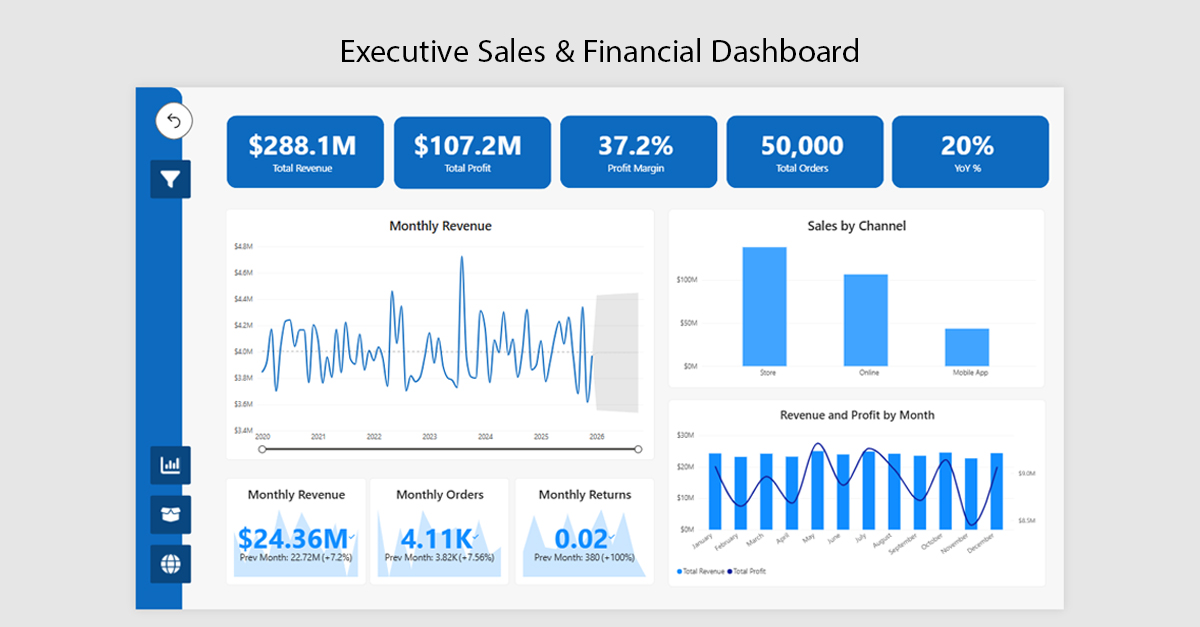

The page's visual inventory and layout, read from the dashboard file:
{"tool":"powerbi","page":{"name":"Exec Dashboard","canvas":[1920,1080],"ordinal":0},"visuals":[{"type":"group","id":"g1","title":"Group 6","box":[0,0,117.4,1080.4],"z":0,"group":"g12"},{"type":"shape","box":[0,0,96.5,1080.4],"z":0,"group":"g1"},{"type":"group","id":"g2","title":"kpi","box":[187,43.5,1704.3,171.7],"z":0},{"type":"group","id":"g3","title":"Group 1","box":[187,43.5,327.6,172.6],"z":0,"group":"g2"},{"type":"group","id":"g4","title":"Group 2","box":[187,43.5,327.6,172.6],"z":0,"group":"g3"},{"type":"group","id":"g5","title":"Group 5","box":[529.9,43.5,332.2,171.7],"z":0,"group":"g8"},{"type":"group","id":"g6","title":"Group 3","box":[877.2,43.5,327.6,171.7],"z":0,"group":"g9"},{"type":"group","id":"g7","title":"Group 4","box":[1220.1,43.5,327.6,171.7],"z":0,"group":"g10"},{"type":"shape","box":[188.8,57.9,325.8,150.7],"z":0,"group":"g4"},{"type":"shape","box":[879,57.9,325.8,150.7],"z":0,"group":"g6"},{"type":"shape","box":[1221.9,57.9,325.8,150.7],"z":0,"group":"g7"},{"type":"shape","box":[1564.7,57.9,325.8,150.7],"z":0,"group":"g11"},{"type":"shape","box":[536.3,58.8,325.8,150.7],"z":0,"group":"g5"},{"type":"actionButton","box":[39.1,30.4,78.3,78.3],"z":1000,"group":"g1"},{"type":"card","fields":{"Values":["Measure Table.Total Revenue"]},"box":[187,43.5,317.6,171.7],"z":1000,"group":"g4"},{"type":"group","id":"g8","title":"Group 2","box":[529.9,43.5,332.2,171.7],"z":1000,"group":"g2"},{"type":"card","fields":{"Values":["Measure Table.Total Profit"]},"box":[529.9,43.5,317.6,171.7],"z":1000,"group":"g5"},{"type":"card","title":"Profit Margin","fields":{"Values":["Measure Table.Profit Margin %"]},"box":[877.2,43.5,317.6,171.7],"z":1000,"group":"g6"},{"type":"card","title":"Profit Margin","fields":{"Values":["Measure Table.Total Orders"]},"box":[1220.1,43.5,317.6,171.7],"z":1000,"group":"g7"},{"type":"card","title":"Profit Margin","fields":{"Values":["Measure Table.YoY %"]},"box":[1562.9,43.5,318.6,172.6],"z":1000,"group":"g11"},{"type":"actionButton","box":[30.4,150,83.9,80],"z":1000,"group":"g12"},{"type":"clusteredColumnChart","title":"Sales by Channel","fields":{"Category":["Sales.Channel"],"Y":["Measure Table.Total Revenue"]},"box":[1102.2,252.2,778.3,369.6],"z":1000},{"type":"group","id":"g9","title":"Group 2","box":[877.2,43.5,327.6,172.6],"z":2000,"group":"g2"},{"type":"lineChart","title":"Monthly  Revenue","fields":{"Y":["Measure Table.Total Revenue"],"Category":["Calendar.Start of Month.Variation.Date Hierarchy.Year","Calendar.Start of Month.Variation.Date Hierarchy.Quarter","Calendar.Start of Month.Variation.Date Hierarchy.Month","Calendar.Start of Month.Variation.Date Hierarchy.Day"]},"box":[187,252.2,887,519.6],"z":2000},{"type":"actionButton","box":[29.4,742.8,83.9,80],"z":2000,"group":"g1"},{"type":"group","id":"g10","title":"Group 2","box":[1220.1,43.5,327.6,172.6],"z":3000,"group":"g2"},{"type":"kpi","title":"Monthly Revenue","fields":{"Indicator":["Measure Table.Total Revenue"],"Goal":["Measure Table.Previous Month Revenue"],"TrendLine":["Calendar.Date.Variation.Date Hierarchy.Month"]},"box":[187,808.7,291.3,221.7],"z":3000},{"type":"actionButton","box":[30.4,945.7,84.8,80.4],"z":3000,"group":"g1"},{"type":"group","id":"g11","title":"Group 2","box":[1562.9,43.5,327.6,172.6],"z":4000,"group":"g2"},{"type":"kpi","title":"Monthly Orders","fields":{"Indicator":["Measure Table.Total Orders"],"Goal":["Measure Table.Previous Month Orders"],"TrendLine":["Calendar.Start of Week.Variation.Date Hierarchy.Month"]},"box":[484.8,808.7,289.1,221.7],"z":4000},{"type":"actionButton","box":[30.4,844,84.8,80.4],"z":4000,"group":"g1"},{"type":"kpi","title":"Monthly Returns","fields":{"TrendLine":["Calendar.Date.Variation.Date Hierarchy.Month"],"Indicator":["Measure Table.Return Rate"],"Goal":["Measure Table.Previous Month Returns"]},"box":[784.8,808.7,289.1,221.7],"z":5000},{"type":"lineClusteredColumnComboChart","title":"Revenue and Profit by Month","fields":{"Category":["Calendar.Start of Month.Variation.Date Hierarchy.Month","Calendar.Start of Month.Variation.Date Hierarchy.Day"],"Y":["Measure Table.Total Revenue"],"Y2":["Measure Table.Total Profit"]},"box":[1102.2,645.7,780.4,387],"z":6000},{"type":"group","id":"g12","title":"Group 7","box":[0,0,117.4,1080.4],"z":8000}]}

Visuals, with their boxes on the page's 1920x1080 design canvas (x1, y1, x2, y2). These are canvas units, not pixel positions in the 1200x627 screenshot, which may show the page scaled, cropped or inside an application window:
"Group 6" group: l=0, t=0, r=117, b=1080
shape: l=0, t=0, r=96, b=1080
"kpi" group: l=187, t=44, r=1891, b=215
"Group 1" group: l=187, t=44, r=515, b=216
"Group 2" group: l=187, t=44, r=515, b=216
"Group 5" group: l=530, t=44, r=862, b=215
"Group 3" group: l=877, t=44, r=1205, b=215
"Group 4" group: l=1220, t=44, r=1548, b=215
shape: l=189, t=58, r=515, b=209
shape: l=879, t=58, r=1205, b=209
shape: l=1222, t=58, r=1548, b=209
shape: l=1565, t=58, r=1890, b=209
shape: l=536, t=59, r=862, b=210
actionButton: l=39, t=30, r=117, b=109
card - Measure Table.Total Revenue: l=187, t=44, r=505, b=215
"Group 2" group: l=530, t=44, r=862, b=215
card - Measure Table.Total Profit: l=530, t=44, r=848, b=215
"Profit Margin" card: l=877, t=44, r=1195, b=215
"Profit Margin" card: l=1220, t=44, r=1538, b=215
"Profit Margin" card: l=1563, t=44, r=1882, b=216
actionButton: l=30, t=150, r=114, b=230
"Sales by Channel" clusteredColumnChart: l=1102, t=252, r=1880, b=622
"Group 2" group: l=877, t=44, r=1205, b=216
"Monthly  Revenue" lineChart: l=187, t=252, r=1074, b=772
actionButton: l=29, t=743, r=113, b=823
"Group 2" group: l=1220, t=44, r=1548, b=216
"Monthly Revenue" kpi: l=187, t=809, r=478, b=1030
actionButton: l=30, t=946, r=115, b=1026
"Group 2" group: l=1563, t=44, r=1890, b=216
"Monthly Orders" kpi: l=485, t=809, r=774, b=1030
actionButton: l=30, t=844, r=115, b=924
"Monthly Returns" kpi: l=785, t=809, r=1074, b=1030
"Revenue and Profit by Month" lineClusteredColumnComboChart: l=1102, t=646, r=1883, b=1033
"Group 7" group: l=0, t=0, r=117, b=1080
